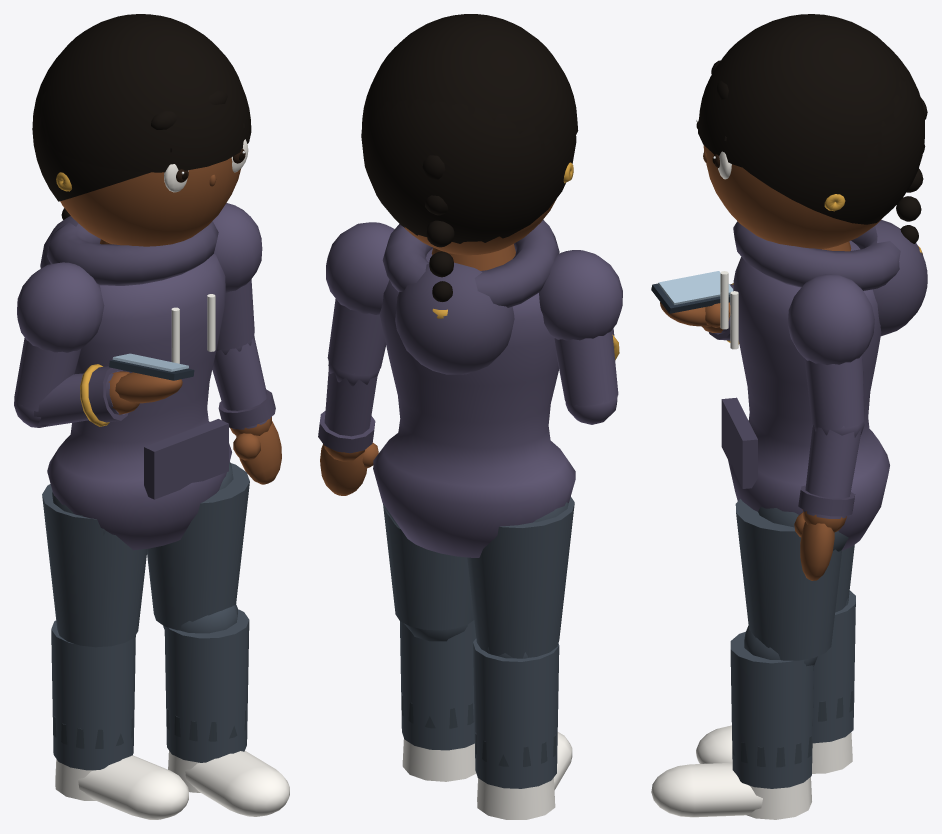
File: 24-priya.glb
The picture shows the model from 3 angles, left to right: view 1: azimuth 30°, elevation 25°; view 2: azimuth 150°, elevation 25°; view 3: azimuth 270°, elevation 25°; orthographic projection.
Parts seen in each view (by area): view 1: Priya, skull, elbow (×2), armR, armL; view 2: Priya, skull, armR, armL, elbow (×2); view 3: Priya, skull, elbow (×2), armL.
Part boxes in pixels (left/top/right/bottom): Priya: left=40, top=215, right=289, bottom=819; skull: left=32, top=14, right=251, bottom=246; elbow (×2): left=14, top=335, right=281, bottom=484; armR: left=14, top=262, right=104, bottom=411; armL: left=213, top=203, right=262, bottom=349; Priya: left=373, top=219, right=575, bottom=819; skull: left=361, top=14, right=578, bottom=318; armR: left=539, top=250, right=622, bottom=405; armL: left=326, top=222, right=394, bottom=374; elbow (×2): left=318, top=328, right=619, bottom=495; Priya: left=651, top=219, right=927, bottom=819; skull: left=696, top=14, right=927, bottom=254; elbow (×2): left=651, top=271, right=864, bottom=580; armL: left=787, top=274, right=874, bottom=428.
Size of the model in its own units: 0.3702 by 0.9741 by 0.3195.
